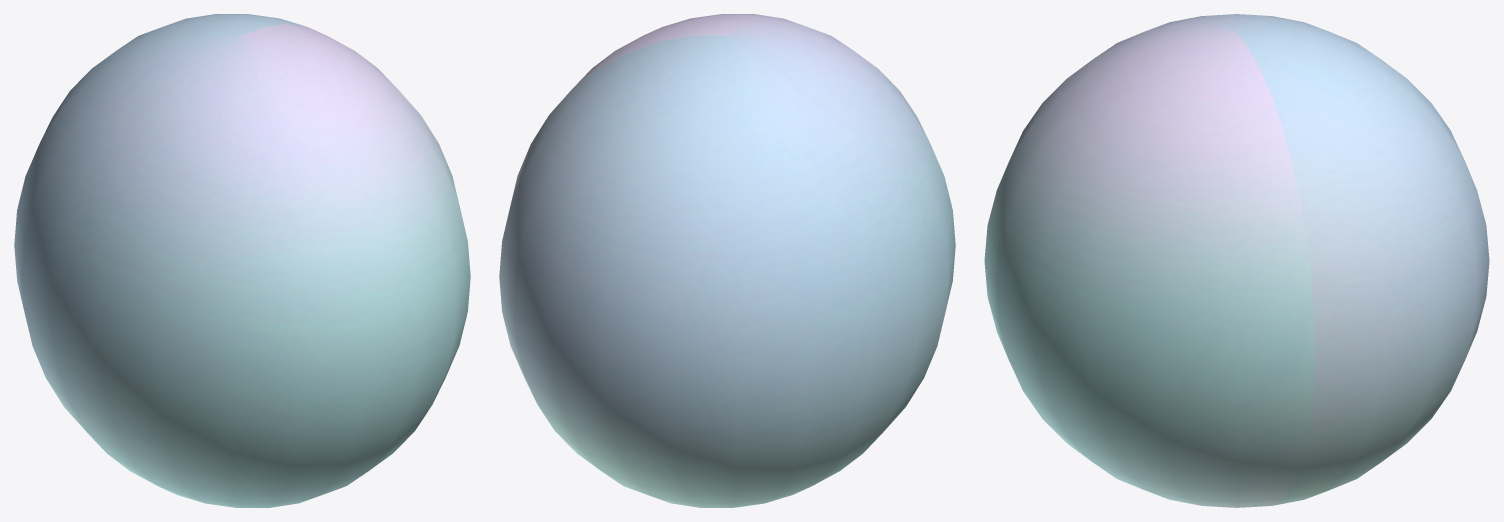
The model's file is Burbuja.obj.
3 renders of one model, left to right at view 1: azimuth 30°, elevation 25°; view 2: azimuth 150°, elevation 25°; view 3: azimuth 270°, elevation 25°, orthographic.
Parts seen in each view (by area): view 1: Burbuja:pSphere1; view 2: Burbuja:pSphere1; view 3: Burbuja:pSphere1.
Part boxes in pixels (left/top/right/bottom): Burbuja:pSphere1: left=14, top=14, right=470, bottom=507; Burbuja:pSphere1: left=499, top=14, right=955, bottom=507; Burbuja:pSphere1: left=984, top=14, right=1489, bottom=507.
Bounding box in the file's own units: 0.8096 × 0.9109 × 0.9109.
Materials: 1 (1 with a texture image).
